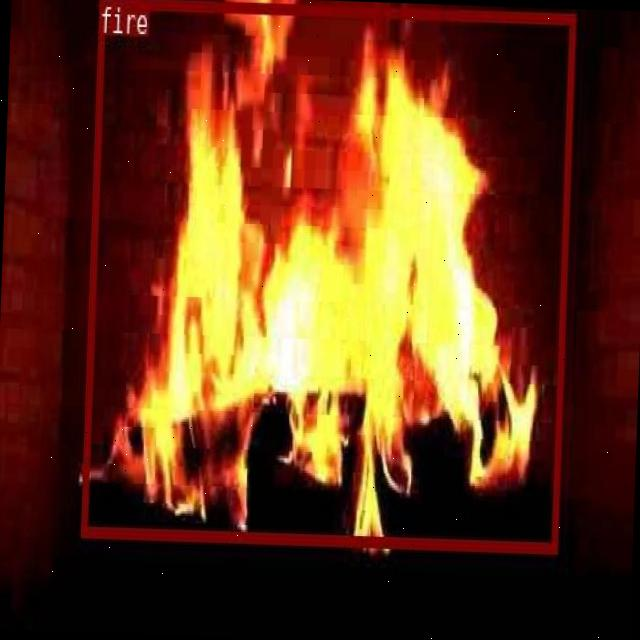fire: (79, 0, 575, 551)
